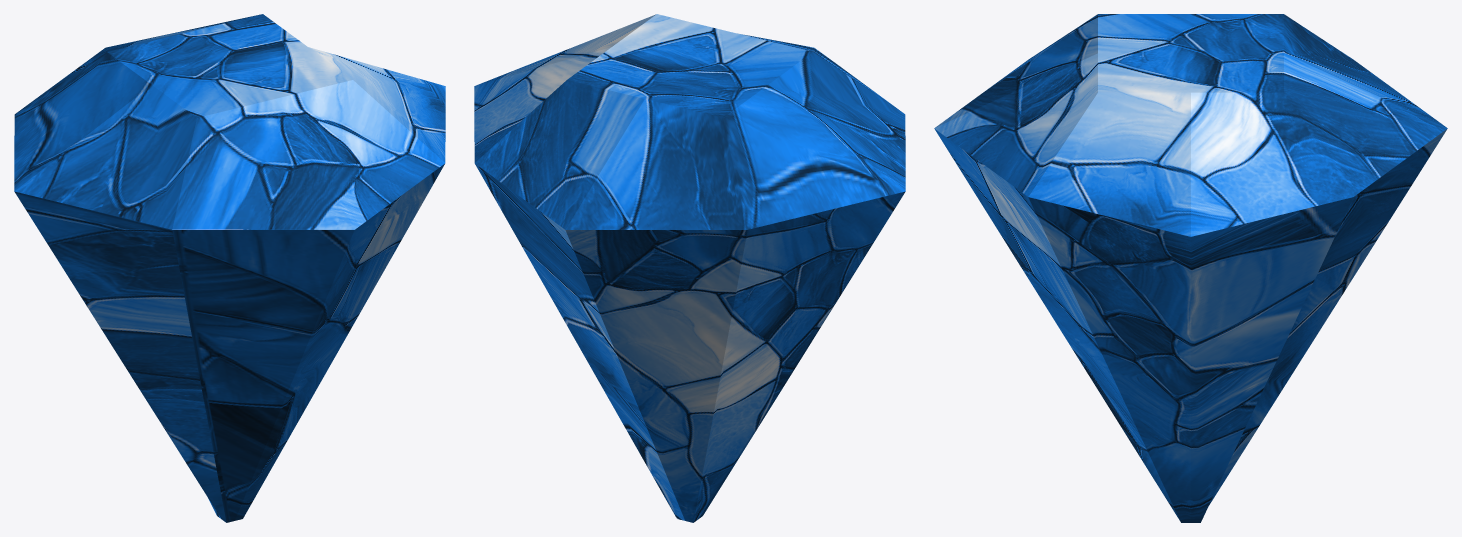
File: gemstone3Blue.glb
3 views of the same model, side by side, from view 1: azimuth 30°, elevation 25°; view 2: azimuth 150°, elevation 25°; view 3: azimuth 270°, elevation 25° (orthographic). The views are drawn at different scales.
Parts seen in each view (by area): view 1: gemstone2; view 2: gemstone2; view 3: gemstone2.
Part boxes in pixels (x1,y1,x2,y2): gemstone2: (14, 14, 445, 522); gemstone2: (474, 14, 905, 522); gemstone2: (934, 14, 1447, 522).
Bounding box in the file's own units: 1 × 1 × 1.
Materials: 1 (1 with a texture image).
